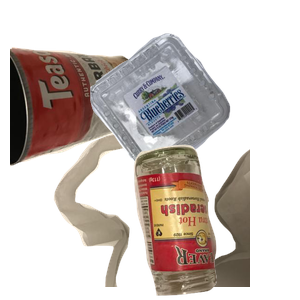glass: (131, 142, 300, 300)
metal: (10, 44, 151, 203)
plastic: (88, 31, 300, 198)
trash: (51, 120, 291, 300)
